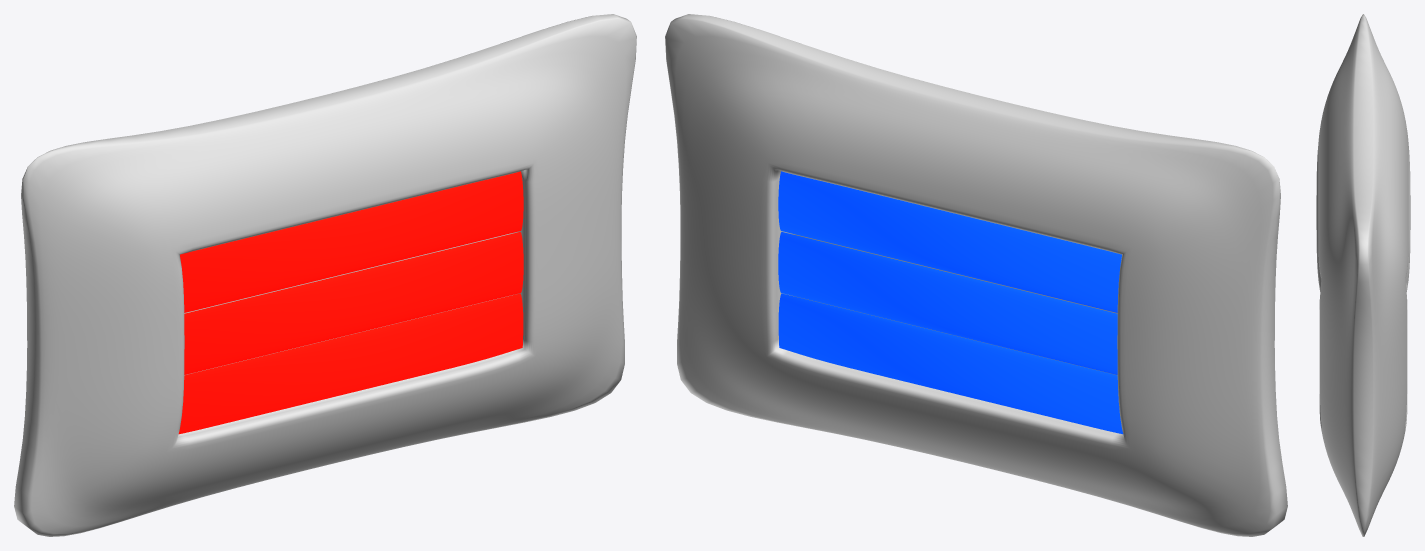
Rendered from Kussen.fbx.
The picture shows the model from 3 angles, left to right: view 1: azimuth 30°, elevation 25°; view 2: azimuth 150°, elevation 25°; view 3: azimuth 270°, elevation 25°; orthographic projection. The views are drawn at different scales.
Visible parts, largest first — view 1: Cube; view 2: Cube; view 3: Cube.
Part boxes in pixels (left/top/right/bottom): Cube: left=14, top=14, right=636, bottom=536; Cube: left=665, top=14, right=1287, bottom=536; Cube: left=1316, top=14, right=1410, bottom=536.
Size of the model in its own units: 1045 by 627 by 173.
